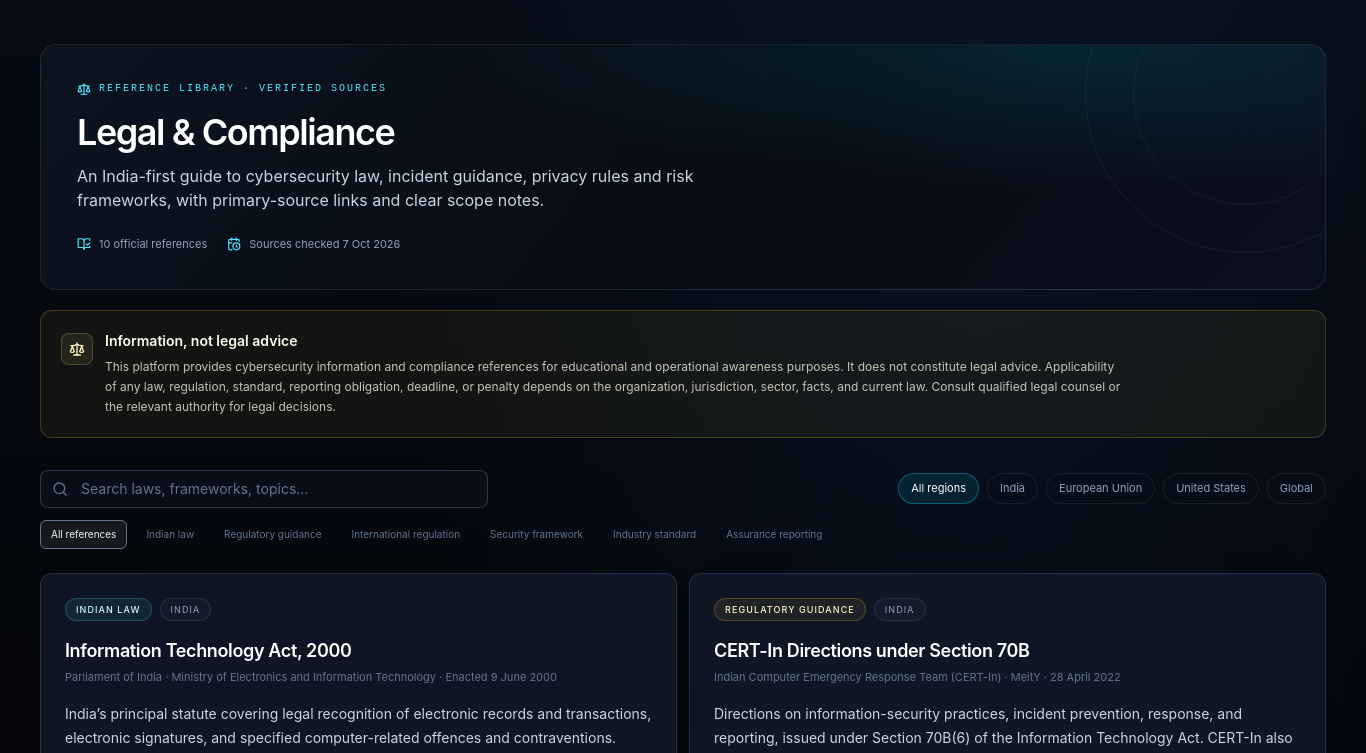
Test: legal and compliance reference center › filters references by region and search text
Click the button "India". click: (1012, 489)
box: [987, 473, 1038, 504]
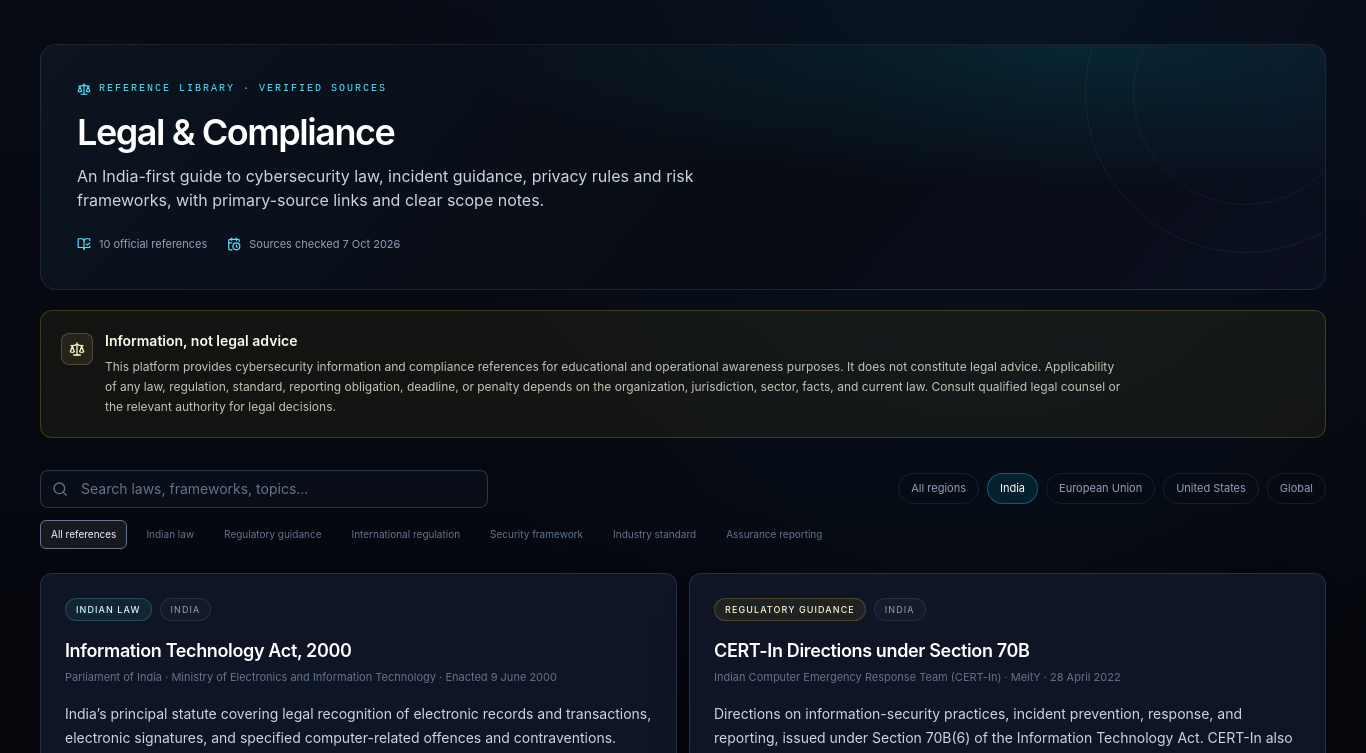
Check: the heading "Information Technology Act, 2000" is shown, box [65, 640, 352, 661]
Type "DPDP Rules" into the search field named "Search laws and frameworks". click: (264, 488)
box: [40, 470, 488, 508]
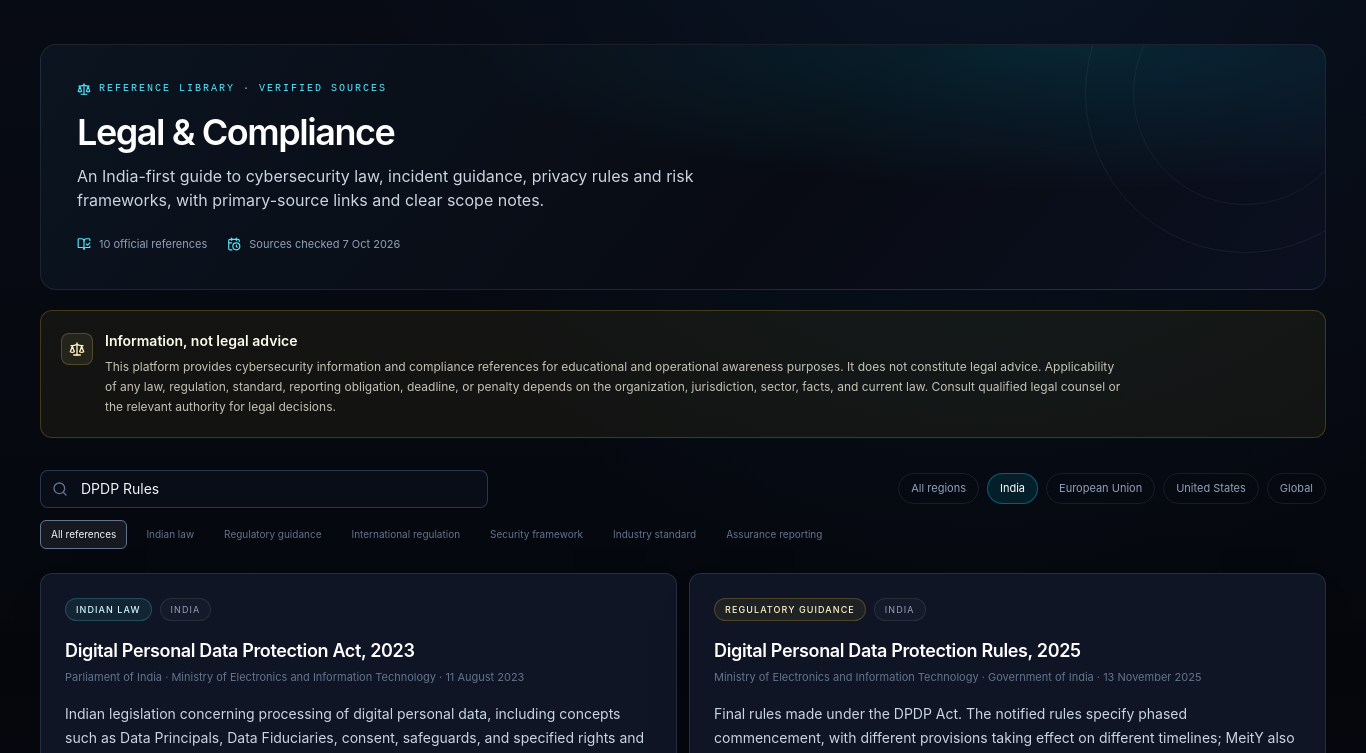
Check: the heading "Digital Personal Data Protection Rules, 2025" is shown, box [714, 640, 1081, 661]
Check: the heading "Information Technology Act, 2000" is gone
